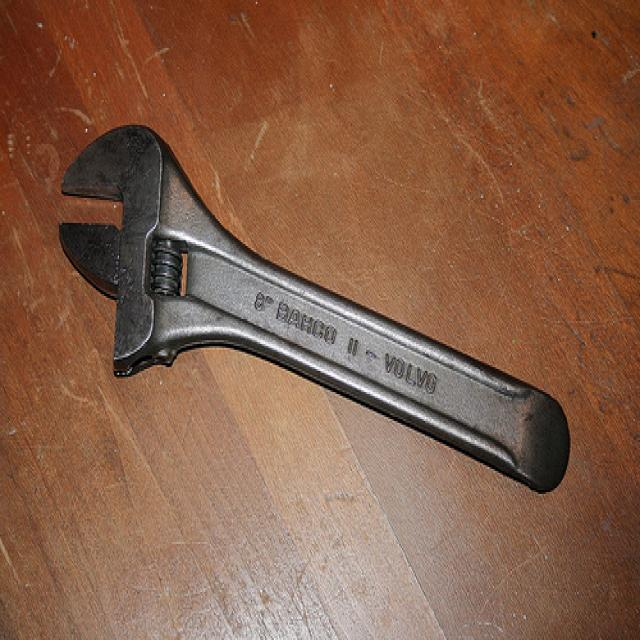wrench: (42, 95, 610, 503)
